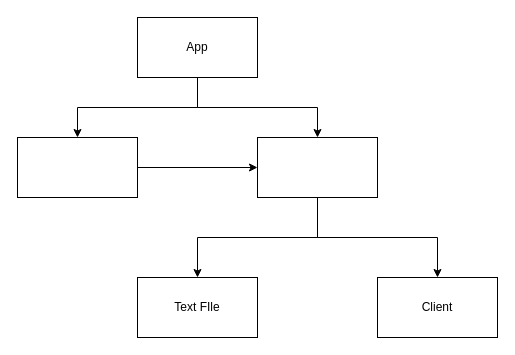
Image size: 515x355. Some labels were removed from this diagram. Here are the shapes that lost their labels. From the top down, the centre of each, then its label:
At point 77,167: "Dir Scrapper".
At point 317,167: "Scrapper Methods".
